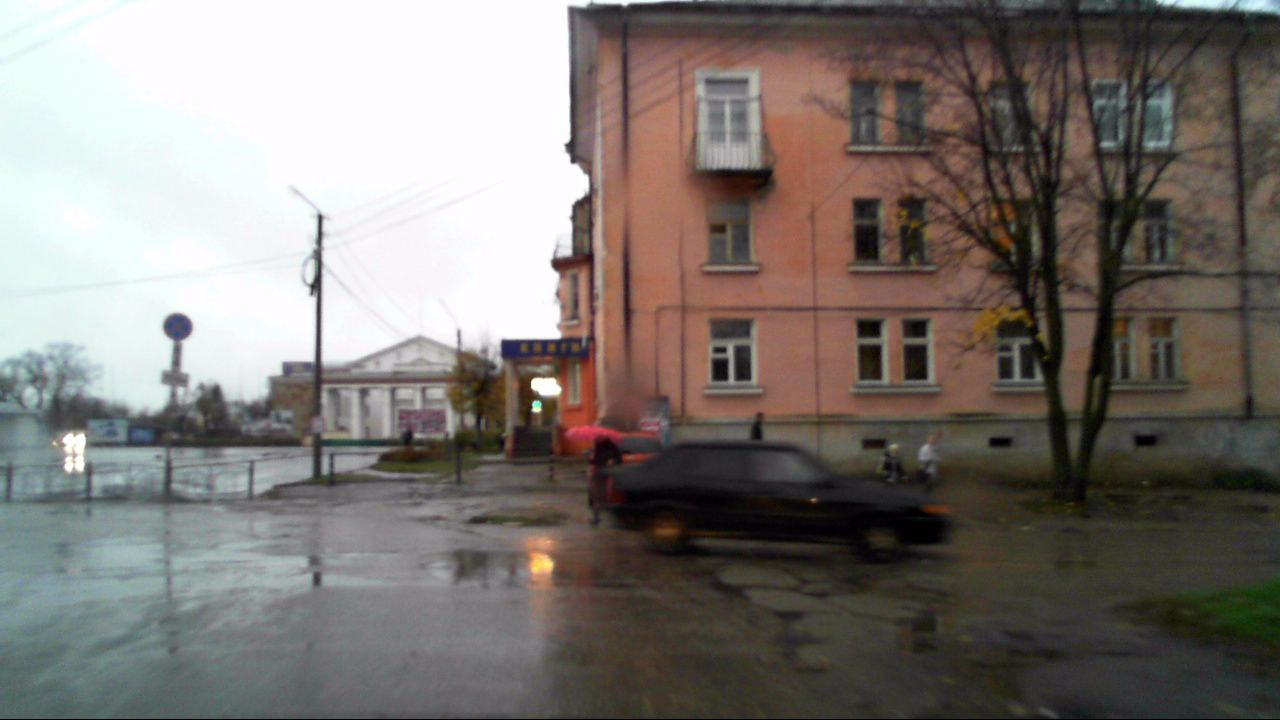No Parking: (163, 313, 191, 341)
